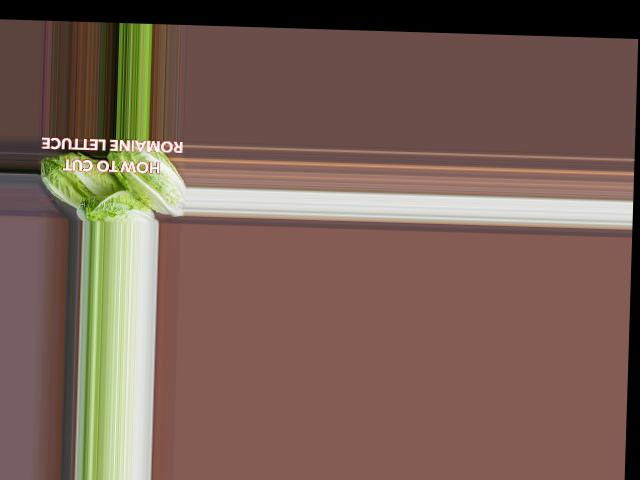lettuce: (35, 144, 130, 214)
